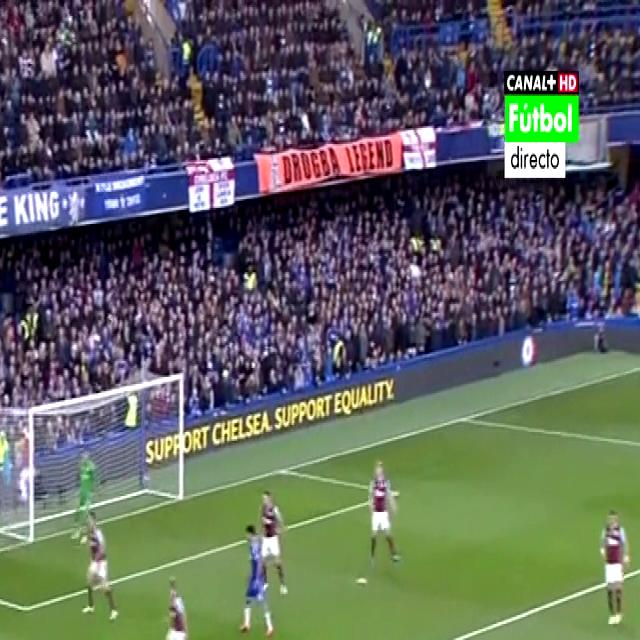goalkeeper: (68, 433, 94, 549)
soccer-player: (591, 488, 637, 636), (231, 506, 276, 640), (250, 474, 297, 591), (370, 448, 404, 577), (80, 512, 118, 624), (155, 565, 202, 640)
